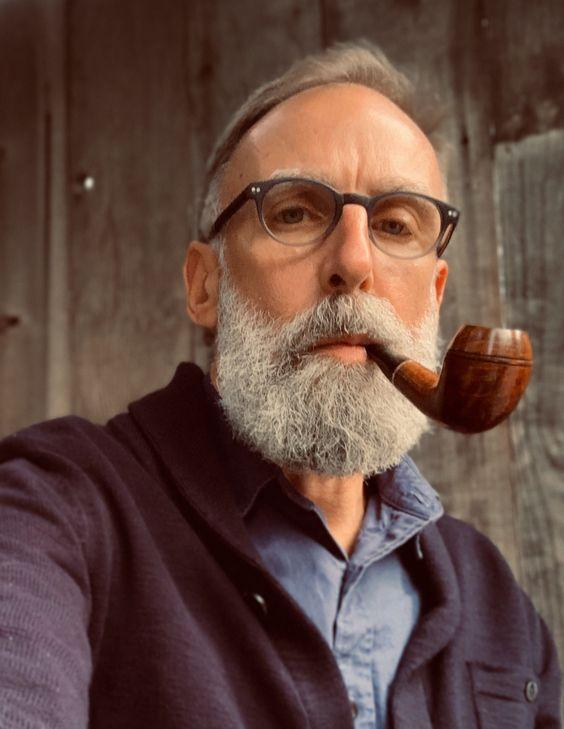trubka: (369, 325, 531, 433)
